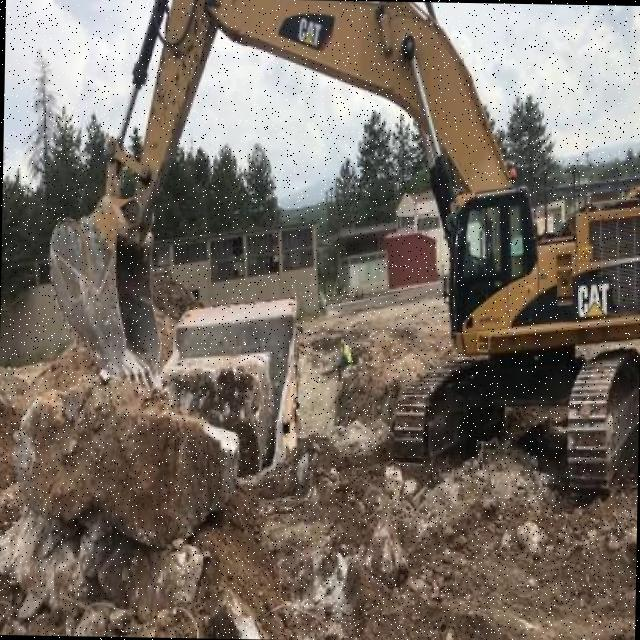Excavator: (45, 0, 640, 501)
